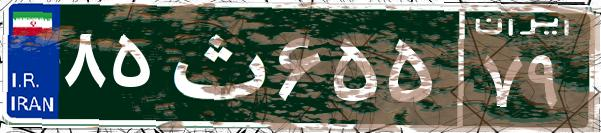5: (385, 28, 445, 110), (330, 28, 385, 110), (110, 28, 158, 105)
6: (273, 28, 330, 110)
7: (475, 38, 525, 113)
8: (57, 26, 110, 107)
9: (525, 38, 570, 115)
ث: (158, 15, 273, 115)
